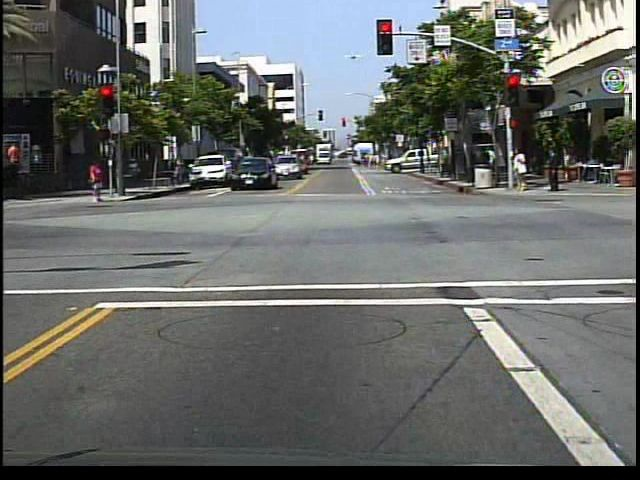person: (543, 145, 563, 193), (88, 159, 108, 205), (512, 146, 530, 195)
